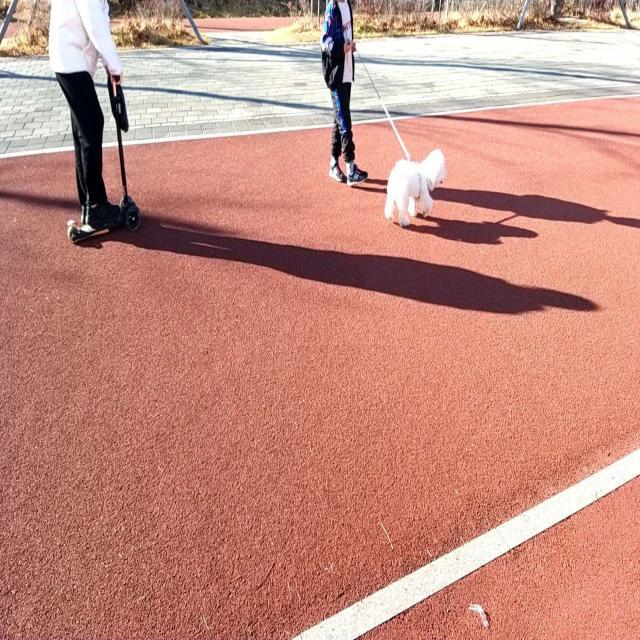Leashed_Dog: (331, 41, 446, 226)
